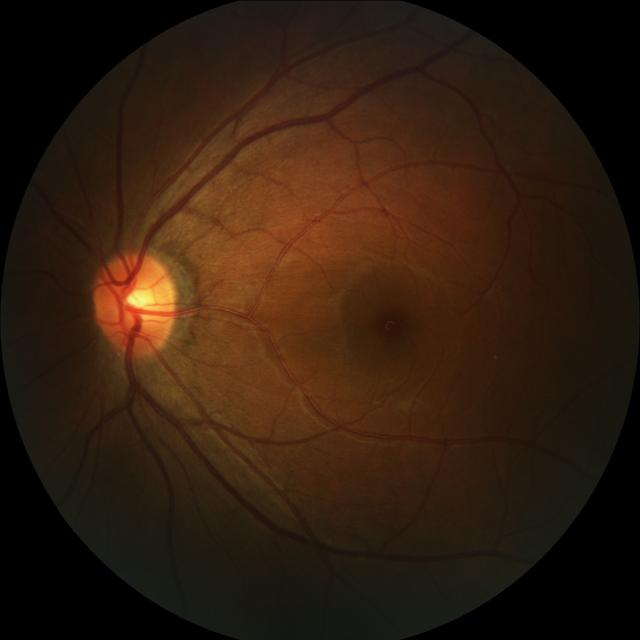OC: (116, 276, 162, 322)
OD: (92, 249, 180, 354)
